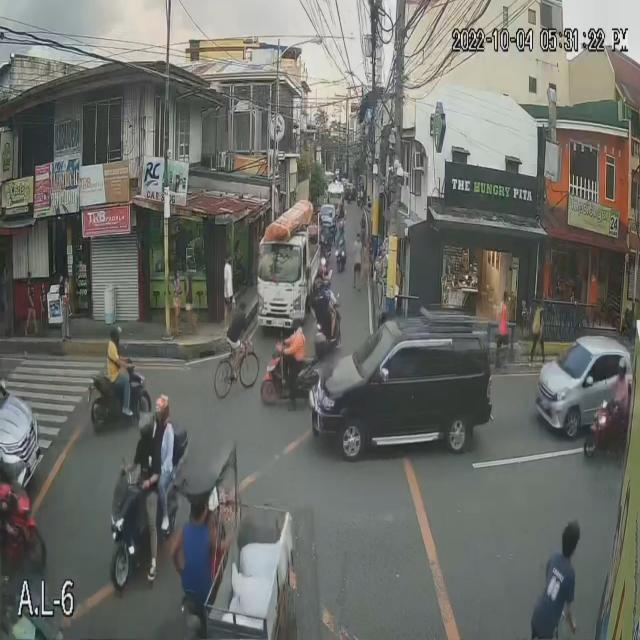full: (616, 356, 628, 384), (109, 324, 121, 346), (291, 314, 301, 331)
half: (154, 392, 170, 426), (138, 414, 154, 441)
